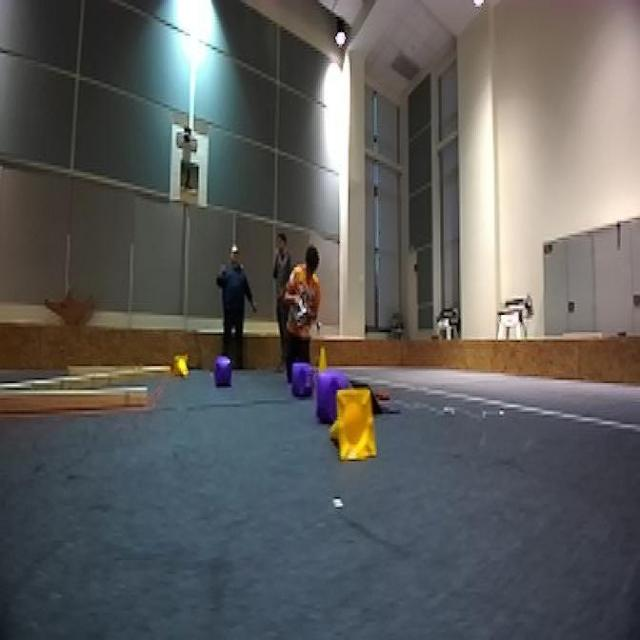frc_cone: (332, 385, 382, 466), (314, 348, 332, 387), (174, 349, 192, 378)
frc_cube: (319, 376, 356, 431), (287, 359, 313, 398), (216, 354, 233, 386)
